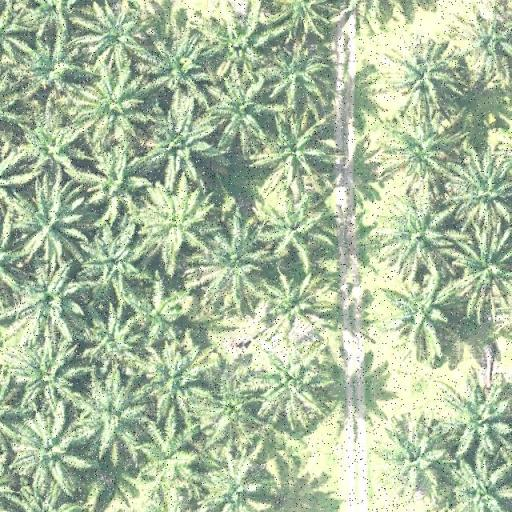Ganoderma: (271, 282, 314, 324)
